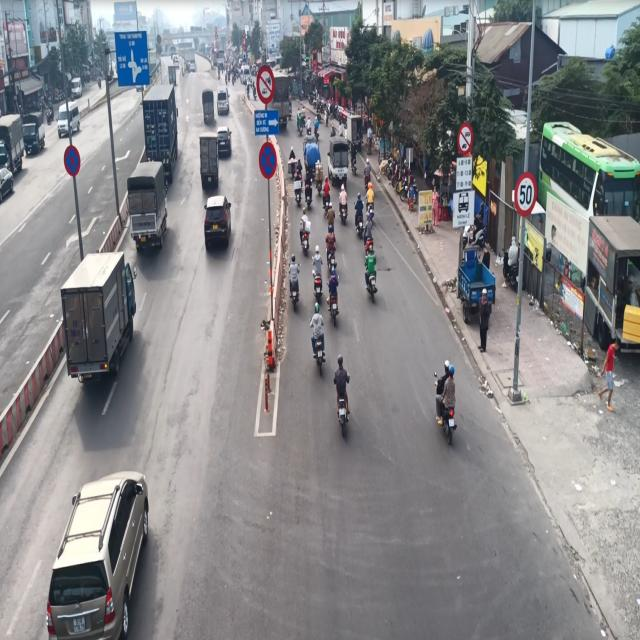car: (39, 465, 154, 640), (200, 192, 234, 251)
motor: (432, 358, 461, 448), (333, 348, 350, 437), (306, 306, 329, 371), (285, 254, 303, 319), (311, 248, 326, 304)
truck: (62, 242, 139, 392), (126, 155, 171, 259), (197, 128, 222, 194)
